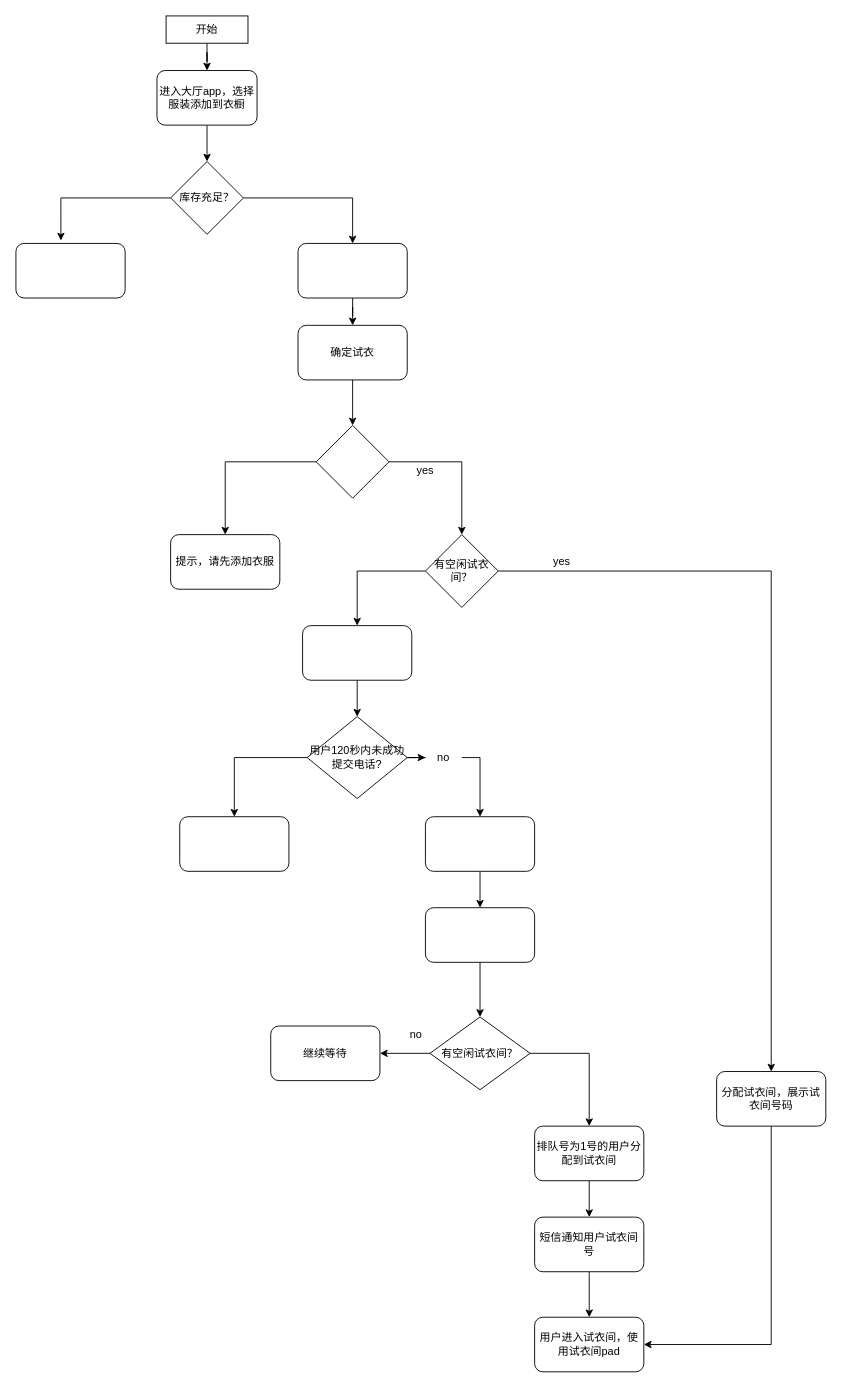
Some shapes in this 842 by 1388 pixel diagram are drawn without their labels. The box of each missing label's shape, as (x1, y1, x2, y2) in pixels:
分配排队号: (425, 816, 535, 871)
提示库存不足，继续浏览: (15, 243, 125, 298)
提示用户输入电话号码: (302, 625, 412, 680)
添加成功: (297, 243, 407, 298)
等待: (425, 907, 535, 962)
衣橱中有衣服？: (315, 425, 389, 498)
返回首页（初始页面）: (179, 816, 289, 871)
